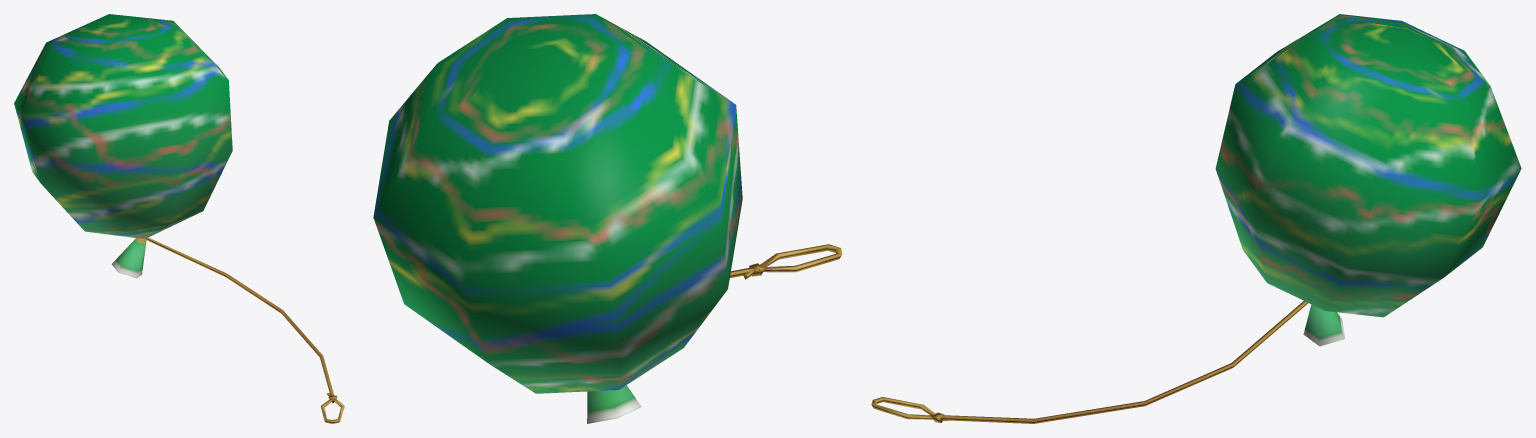
The model's file is jsf_WaterBalloon_15_e.fbx.
The picture shows the model from 3 angles, left to right: view 1: azimuth 30°, elevation 25°; view 2: azimuth 150°, elevation 25°; view 3: azimuth 270°, elevation 25°; orthographic projection. The views are drawn at different scales.
Parts seen in each view (by area): view 1: jsf_WaterBalloon_15_e; view 2: jsf_WaterBalloon_15_e; view 3: jsf_WaterBalloon_15_e.
Part boxes in pixels (bbox=[...]): jsf_WaterBalloon_15_e: bbox=[14, 14, 344, 423]; jsf_WaterBalloon_15_e: bbox=[373, 14, 842, 423]; jsf_WaterBalloon_15_e: bbox=[871, 14, 1521, 423].
Bounding box in the file's own units: 10.92 × 14.38 × 23.6.
